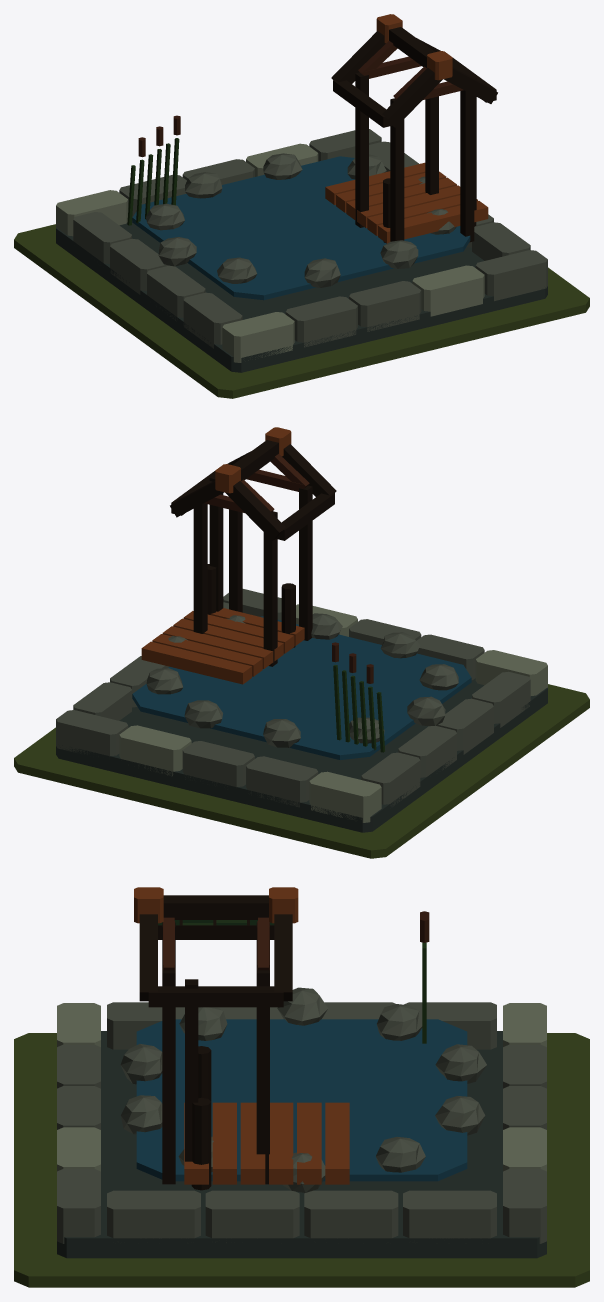
The model's file is pond_t4.glb.
3 views of the same model, one above another, from view 1: azimuth 30°, elevation 25°; view 2: azimuth 150°, elevation 25°; view 3: azimuth 270°, elevation 25° (orthographic). The views are drawn at different scales.
Parts seen in each view (by area): view 1: MMR | pond | T04 Architecture.001, MMR | pond | Tier 04 Ground.001; view 2: MMR | pond | T04 Architecture.001, MMR | pond | Tier 04 Ground.001; view 3: MMR | pond | T04 Architecture.001, MMR | pond | Tier 04 Ground.001.
Part boxes in pixels (box(x1,y1,x2,y2)): MMR | pond | T04 Architecture.001: box(56, 14, 547, 372); MMR | pond | Tier 04 Ground.001: box(14, 224, 589, 398); MMR | pond | T04 Architecture.001: box(56, 427, 547, 832); MMR | pond | Tier 04 Ground.001: box(14, 684, 589, 858); MMR | pond | T04 Architecture.001: box(57, 887, 546, 1258); MMR | pond | Tier 04 Ground.001: box(14, 1033, 589, 1287).
Size of the model in its own units: 2.35 by 1.46 by 2.35.
1 material, 1 textured.
